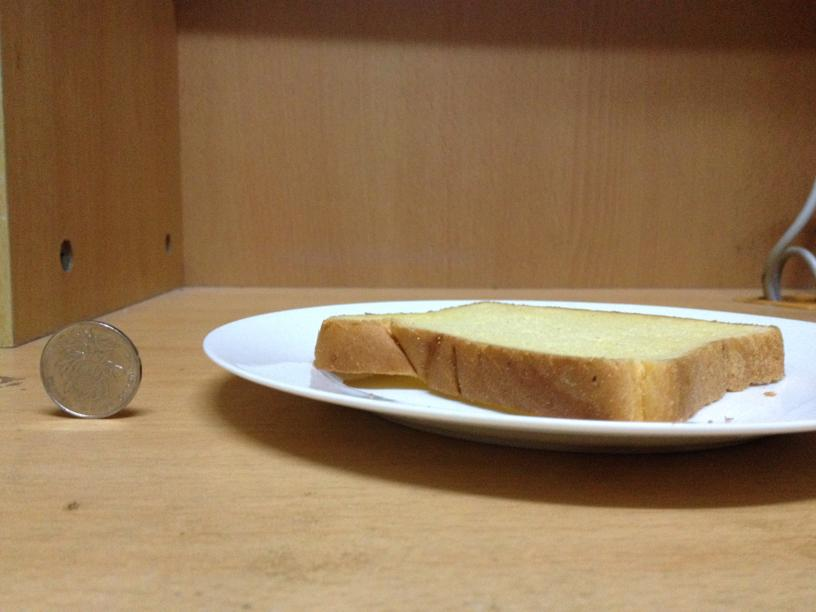bread: (310, 292, 785, 423)
coin: (37, 319, 141, 418)
